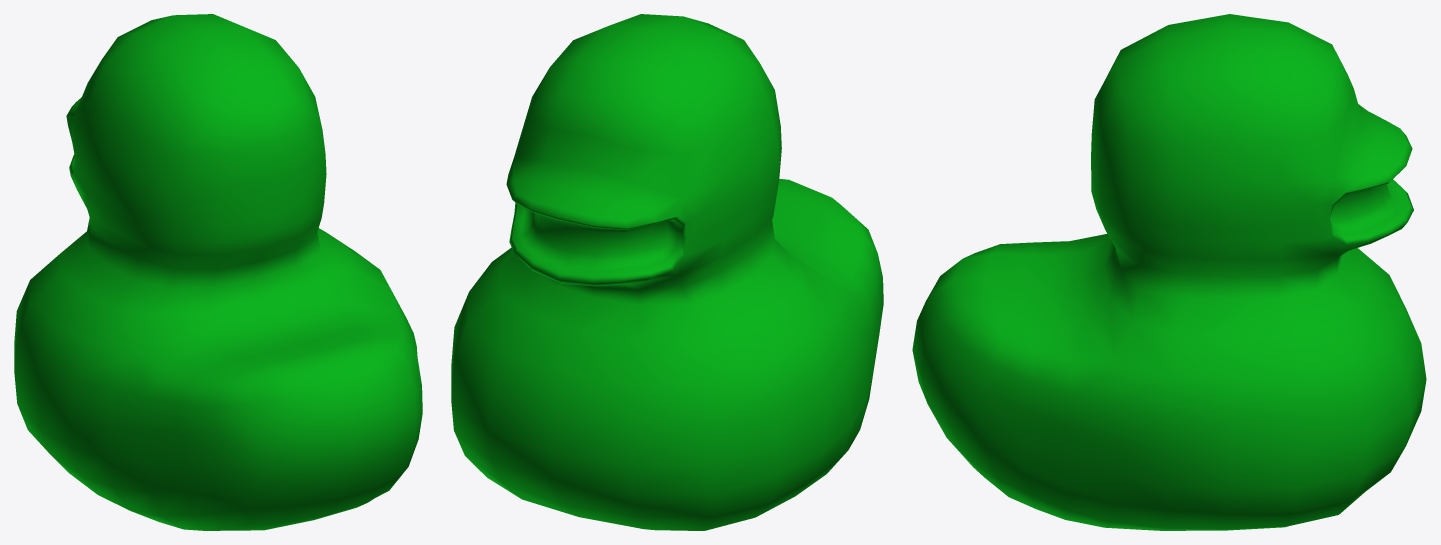
Rendered from Plastic_Duck.fbx.
3 views of the same model, side by side, from view 1: azimuth 30°, elevation 25°; view 2: azimuth 150°, elevation 25°; view 3: azimuth 270°, elevation 25° (orthographic). The views are drawn at different scales.
Parts seen in each view (by area): view 1: Plastic_Duck; view 2: Plastic_Duck; view 3: Plastic_Duck.
Part boxes in pixels (left/top/right/bottom): Plastic_Duck: left=14, top=14, right=422, bottom=530; Plastic_Duck: left=451, top=14, right=883, bottom=530; Plastic_Duck: left=912, top=14, right=1426, bottom=530.
Bounding box in the file's own units: 58.76 × 72.96 × 74.58.
